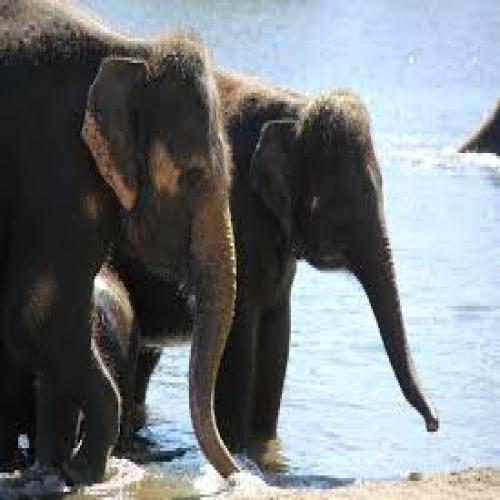asian_elephant-endangered: (130, 80, 441, 457), (0, 0, 237, 485)
